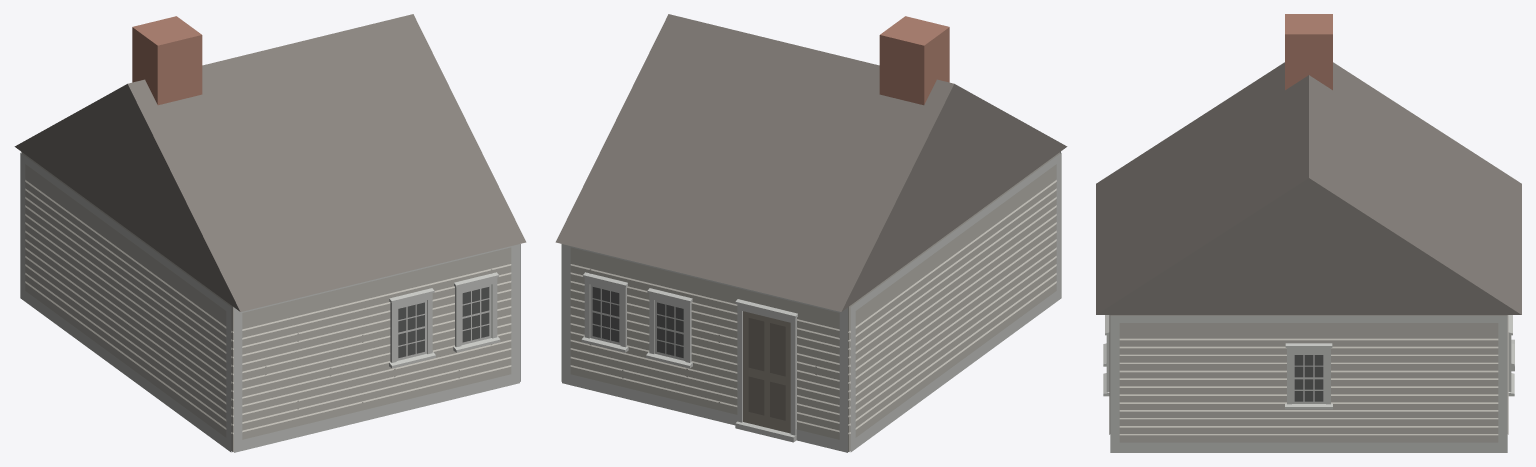
The model's file is recon_1835_blk_washington_lasalle_d3_07__inferred_1835.glb.
3 views of the same model, side by side, from view 1: azimuth 30°, elevation 25°; view 2: azimuth 150°, elevation 25°; view 3: azimuth 270°, elevation 25° (orthographic). The views are drawn at different scales.
Visible parts, largest first — view 1: recon_1835_blk_washington_lasalle_d3_07__inferred_1835; view 2: recon_1835_blk_washington_lasalle_d3_07__inferred_1835; view 3: recon_1835_blk_washington_lasalle_d3_07__inferred_1835.
Part boxes in pixels (<box>): recon_1835_blk_washington_lasalle_d3_07__inferred_1835: <box>14,14,526,452</box>; recon_1835_blk_washington_lasalle_d3_07__inferred_1835: <box>555,14,1067,452</box>; recon_1835_blk_washington_lasalle_d3_07__inferred_1835: <box>1096,14,1521,452</box>.
Bounding box in the file's own units: 5.56 × 6.05 × 7.41.
